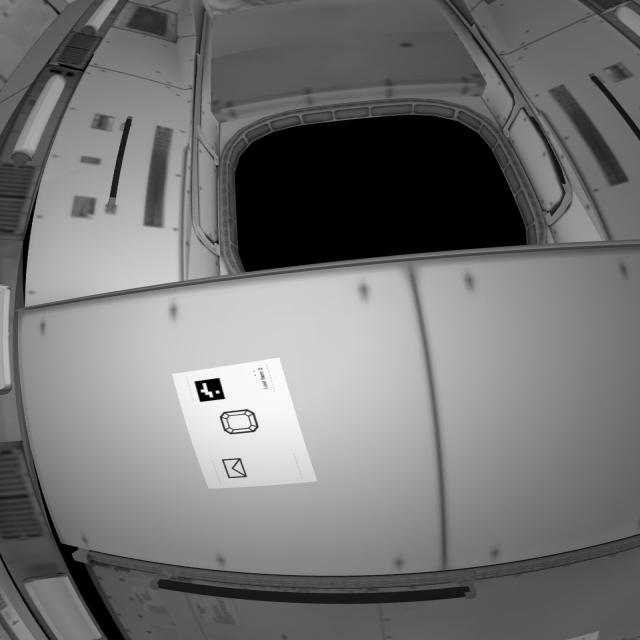emerald: (218, 409, 264, 437)
letter: (222, 454, 252, 483)
